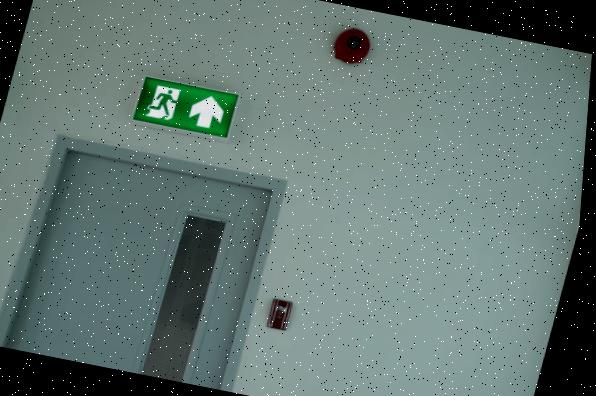emergency_exit: (132, 76, 239, 139)
